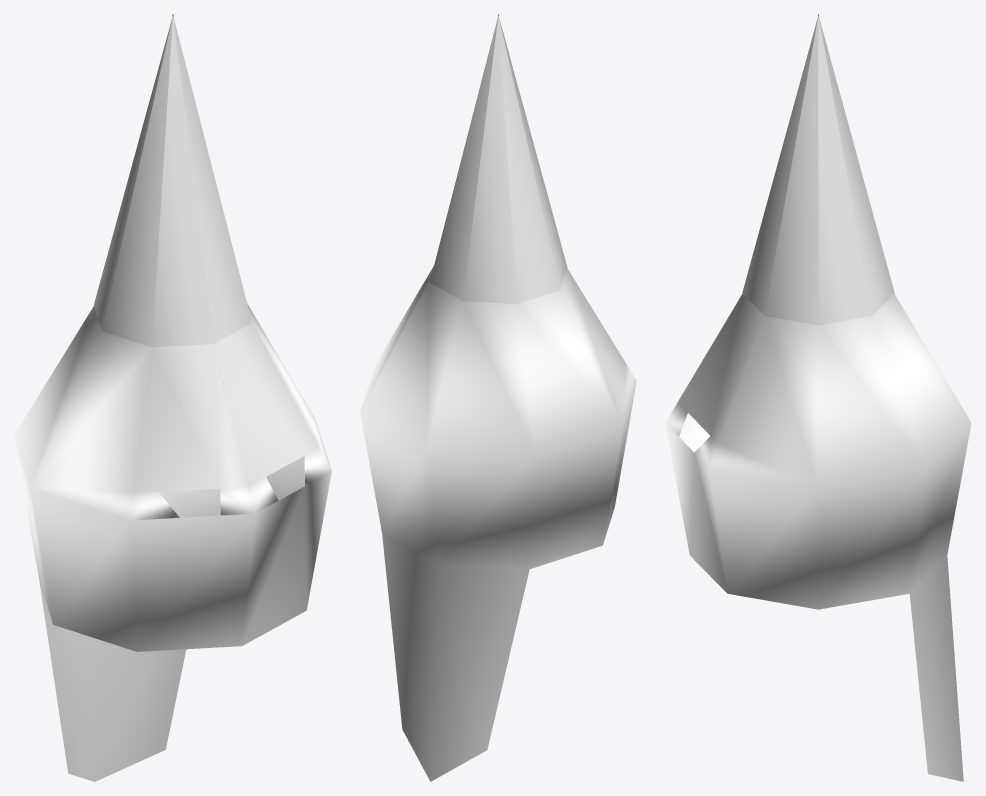
File: kkk_hat.fbx
The picture shows the model from 3 angles, left to right: view 1: azimuth 30°, elevation 25°; view 2: azimuth 150°, elevation 25°; view 3: azimuth 270°, elevation 25°; orthographic projection. The views are drawn at different scales.
Visible parts, largest first — view 1: kkk hat; view 2: kkk hat; view 3: kkk hat.
Boxes of the visible parts, x1,y1,x2,y2 form: kkk hat: (14, 14, 331, 781); kkk hat: (360, 14, 636, 781); kkk hat: (665, 14, 971, 781).
Bounding box in the file's own units: 60.65 × 168 × 60.65.
Materials: 1 (1 with a texture image).
